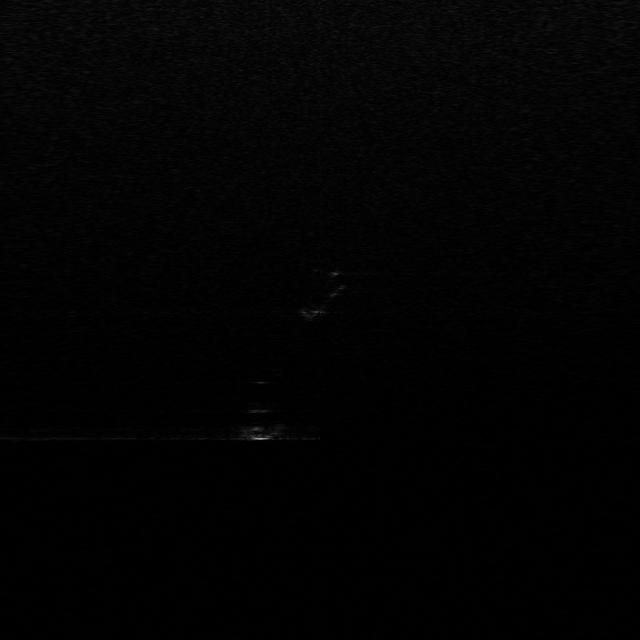ball: (233, 404, 288, 442)
tyre: (300, 275, 344, 324)
